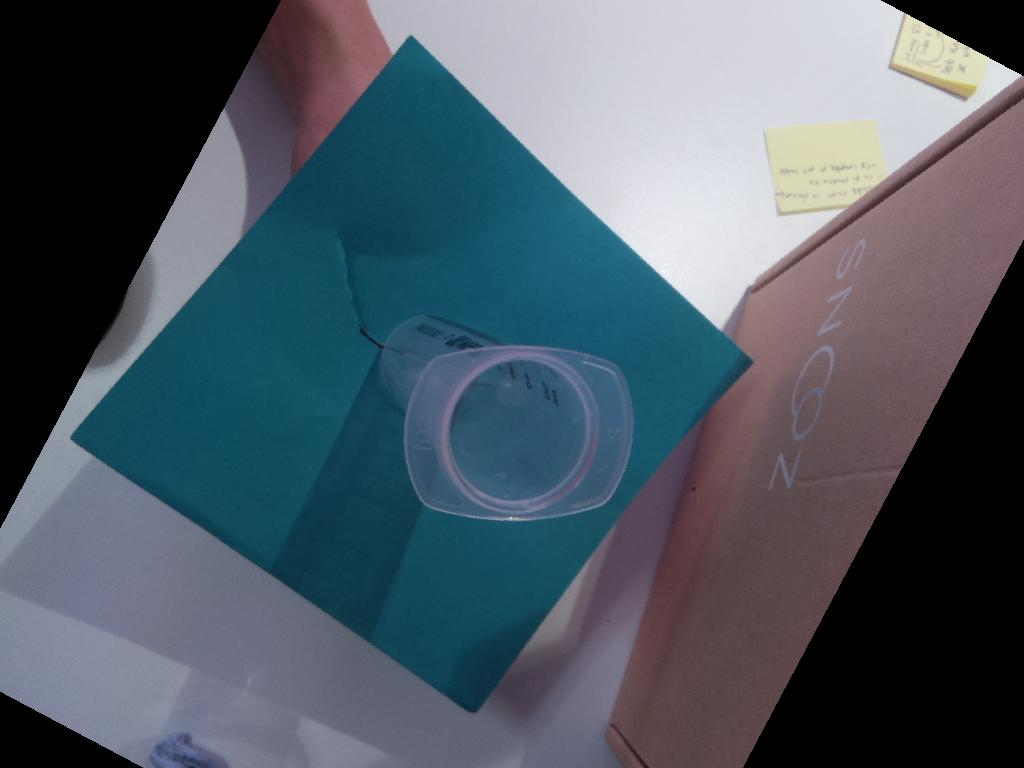clean: (402, 341, 636, 522)
